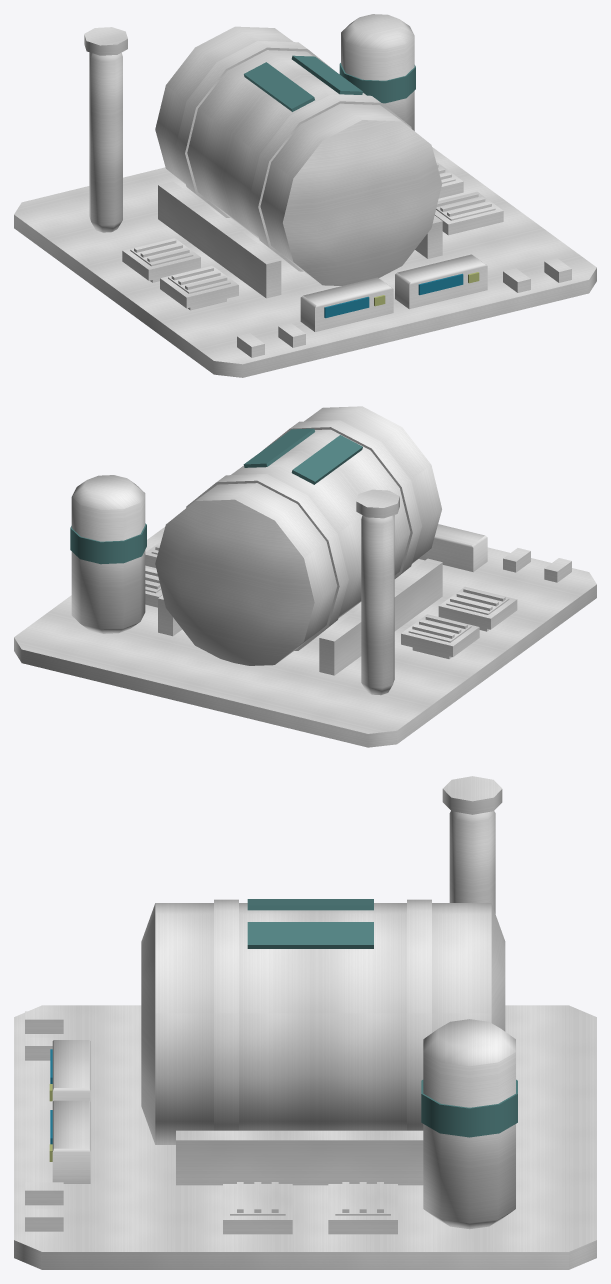
The model's file is climate_adjuster.obj.
3 views of the same model, one above another, from view 1: azimuth 30°, elevation 25°; view 2: azimuth 150°, elevation 25°; view 3: azimuth 270°, elevation 25° (orthographic). The views are drawn at different scales.
Visible parts, largest first — view 1: source_component_001, source_component_000, source_component_010, source_component_006, source_component_008, source_component_002, source_component_036, source_component_003, source_component_039, source_component_004, source_component_009, source_component_019 (+11 smaller); view 2: source_component_000, source_component_001, source_component_008, source_component_010, source_component_006, source_component_003, source_component_002, source_component_036, source_component_009, source_component_004, source_component_013, source_component_019 (+5 smaller); view 3: source_component_000, source_component_001, source_component_008, source_component_007, source_component_002, source_component_003, source_component_010, source_component_005, source_component_039, source_component_009, source_component_036, source_component_025 (+9 smaller).
Boxes of the visible parts, x1,y1,x2,y2 form: source_component_001: [155, 26, 441, 285]; source_component_000: [14, 147, 596, 377]; source_component_010: [89, 52, 122, 232]; source_component_006: [158, 181, 281, 298]; source_component_008: [341, 14, 414, 130]; source_component_002: [248, 94, 411, 271]; source_component_036: [300, 277, 393, 331]; source_component_003: [175, 40, 334, 217]; source_component_039: [395, 254, 487, 309]; source_component_004: [244, 62, 314, 111]; source_component_009: [339, 63, 415, 103]; source_component_019: [122, 238, 200, 280]; source_component_000: [14, 527, 596, 747]; source_component_001: [155, 406, 441, 665]; source_component_008: [71, 475, 145, 633]; source_component_010: [361, 515, 394, 695]; source_component_006: [319, 558, 442, 675]; source_component_003: [186, 473, 348, 650]; source_component_002: [263, 420, 421, 578]; source_component_036: [418, 524, 487, 571]; source_component_009: [70, 523, 146, 564]; source_component_004: [291, 435, 362, 484]; source_component_013: [438, 586, 517, 629]; source_component_019: [401, 614, 479, 656]; source_component_000: [14, 1005, 596, 1269]; source_component_001: [141, 903, 505, 1144]; source_component_008: [423, 1019, 515, 1229]; source_component_007: [176, 1130, 423, 1185]; source_component_002: [214, 899, 238, 1130]; source_component_003: [407, 899, 431, 1130]; source_component_010: [449, 811, 495, 913]; source_component_005: [247, 922, 373, 948]; source_component_039: [52, 1100, 90, 1183]; source_component_009: [421, 1079, 517, 1137]; source_component_036: [52, 1040, 90, 1101]; source_component_025: [223, 1184, 292, 1234].
Bounding box in the file's own units: 5.86 × 3 × 5.86.
